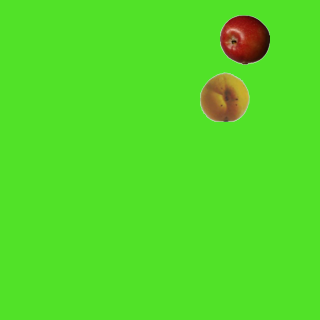Apple Braeburn: (219, 14, 269, 64)
Peach 2: (199, 71, 249, 121)
